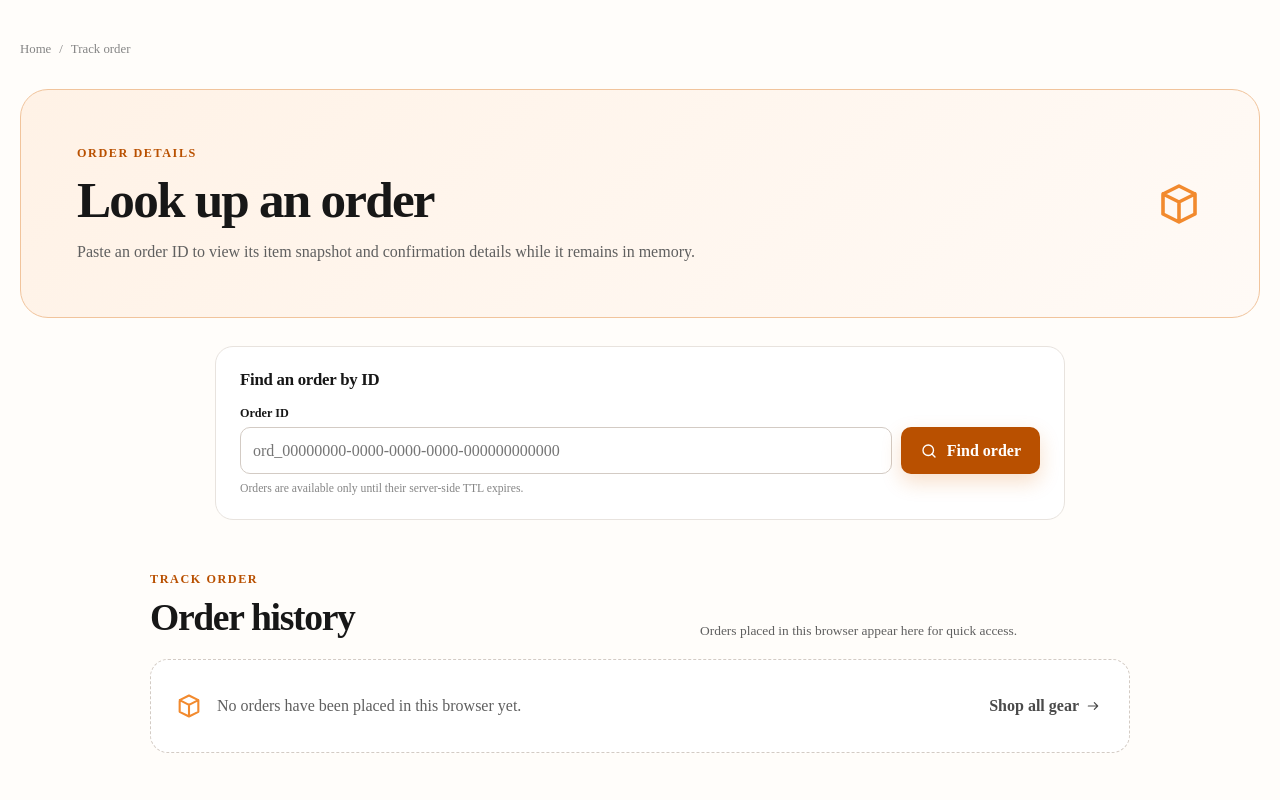
Test case: order pages › validates lookup ids locally and presents a typed not-found error
In the field labelled "Order ID": (566, 451) [240,427,892,474], type "invalid"
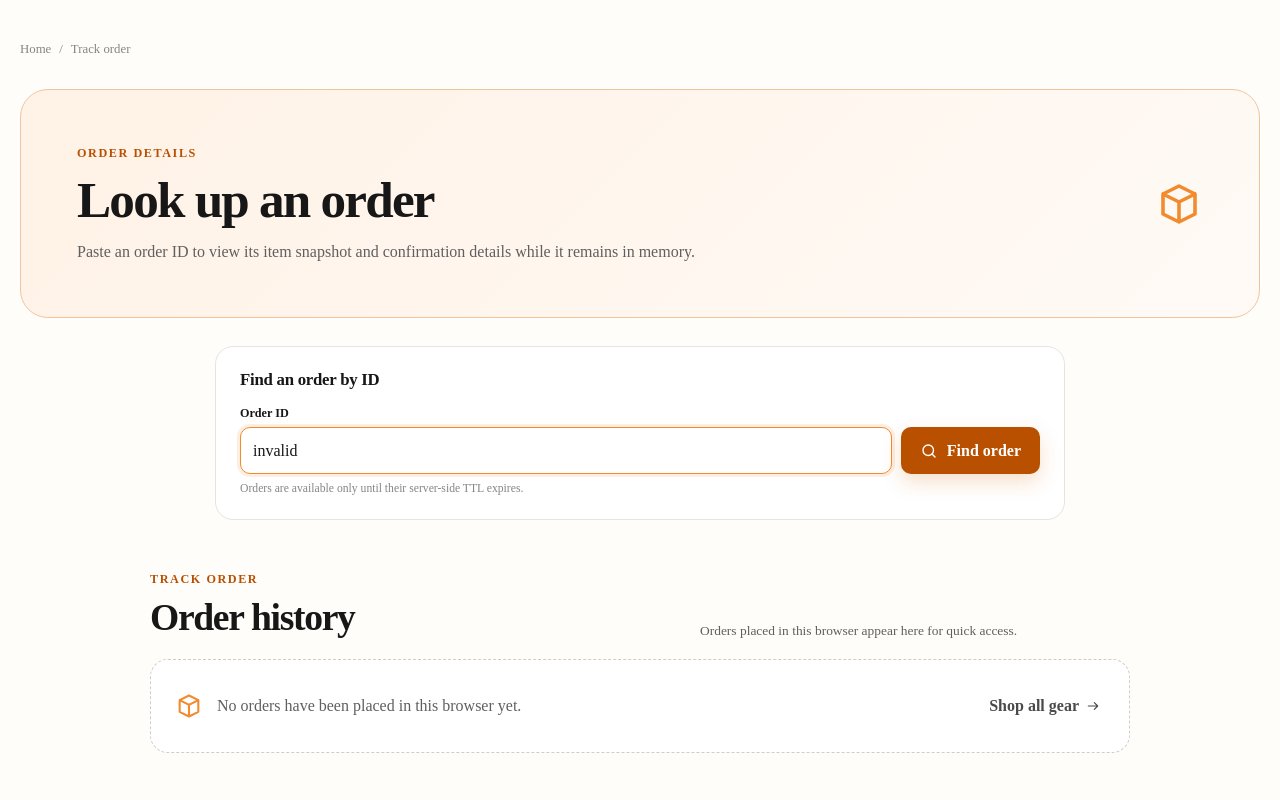
Click the button "Find order": click(970, 451) [901,427,1040,474]
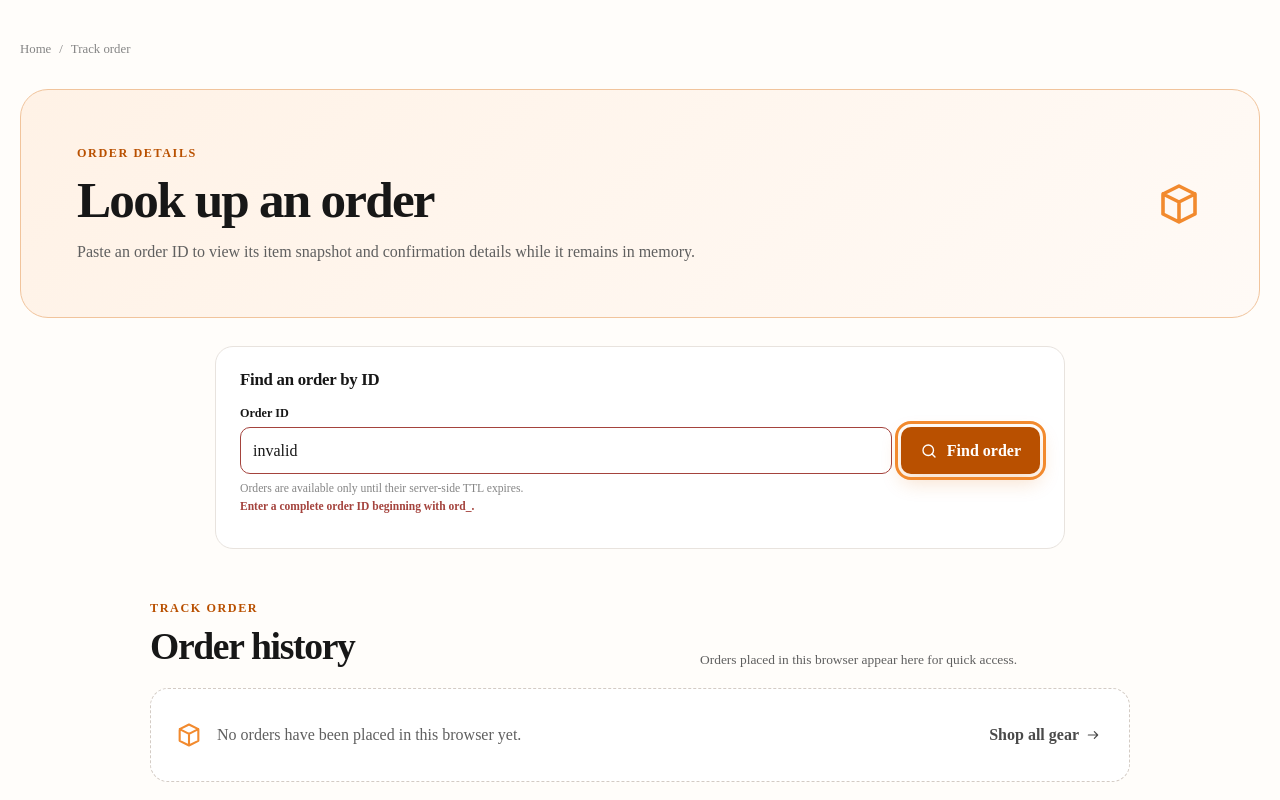
Result: the message reads "Enter a complete order ID beginning with ord_." at [240,500,474,512]
Replace the text in the field labelled "Order ID" with "ord_00000000-0000-4000-8000-000000000000": (566, 451) [240,427,892,474]
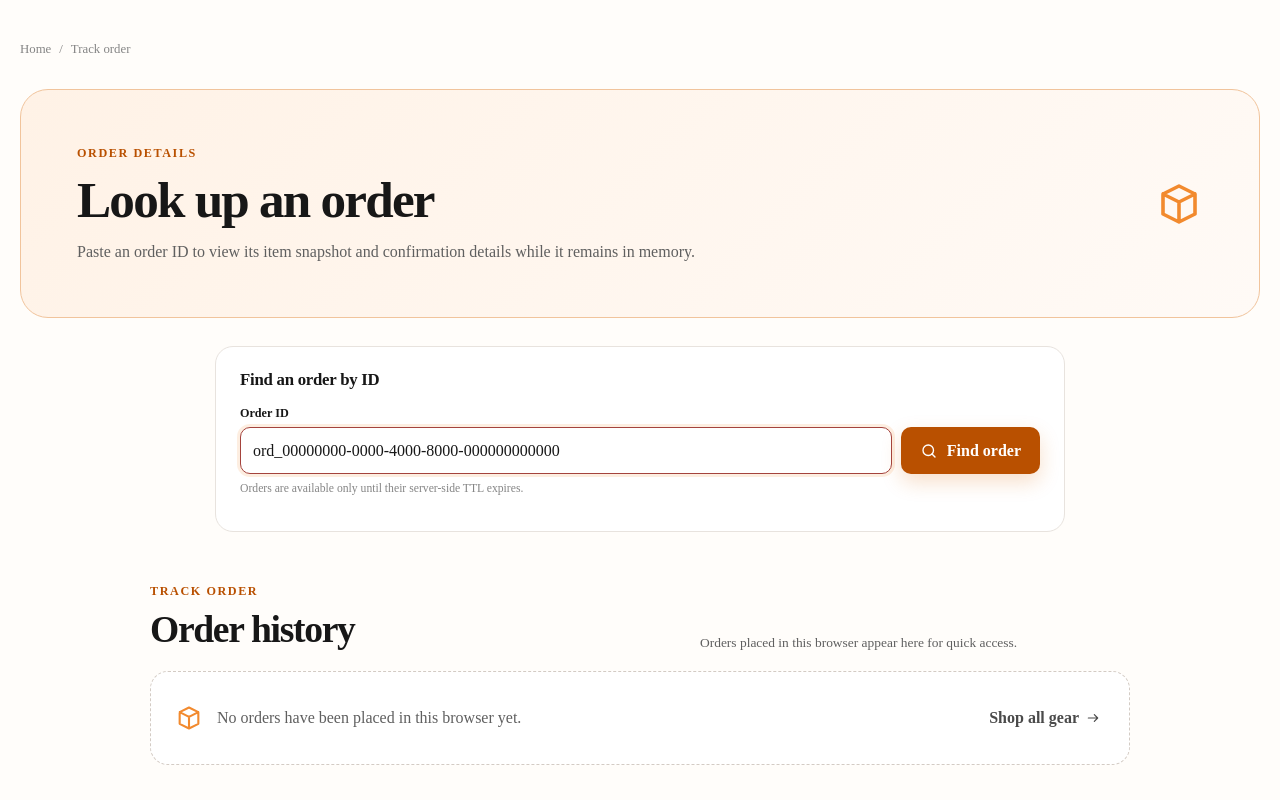
Click the button "Find order": click(970, 451) [901,427,1040,474]
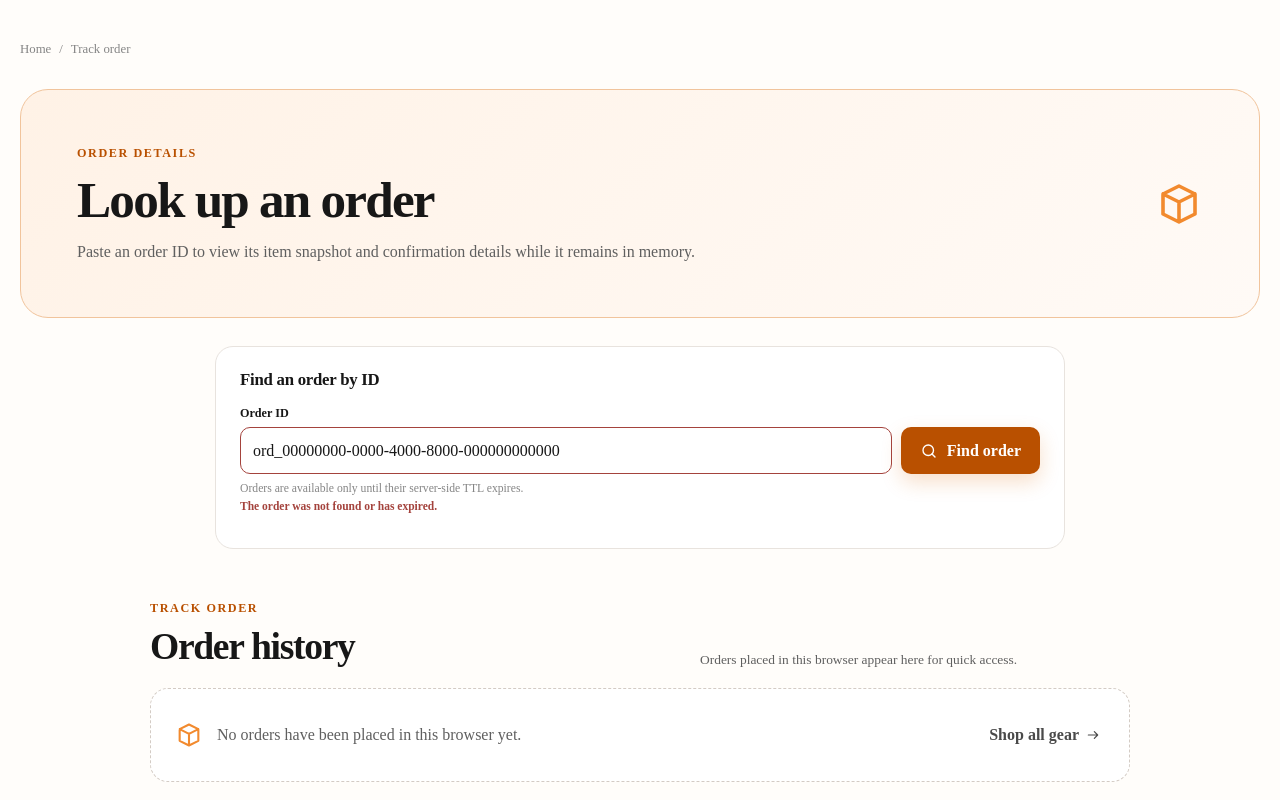
Result: the message reads "The order was not found or has expired." at [240,500,437,512]
